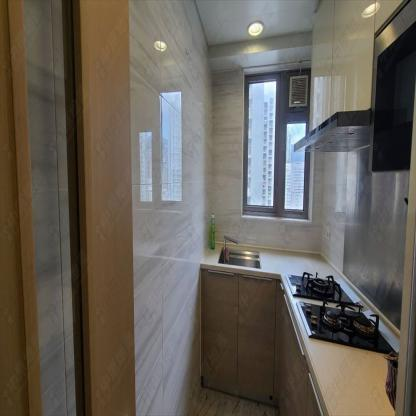Cupboard: (200, 271, 322, 415)
Exhaust Fan: (288, 74, 310, 109)
Exhaust Hood: (293, 110, 369, 154)
Faucet: (222, 231, 240, 254)
Microwave: (370, 0, 416, 172)
Sink: (219, 247, 263, 267)
Stove: (286, 269, 398, 354)
